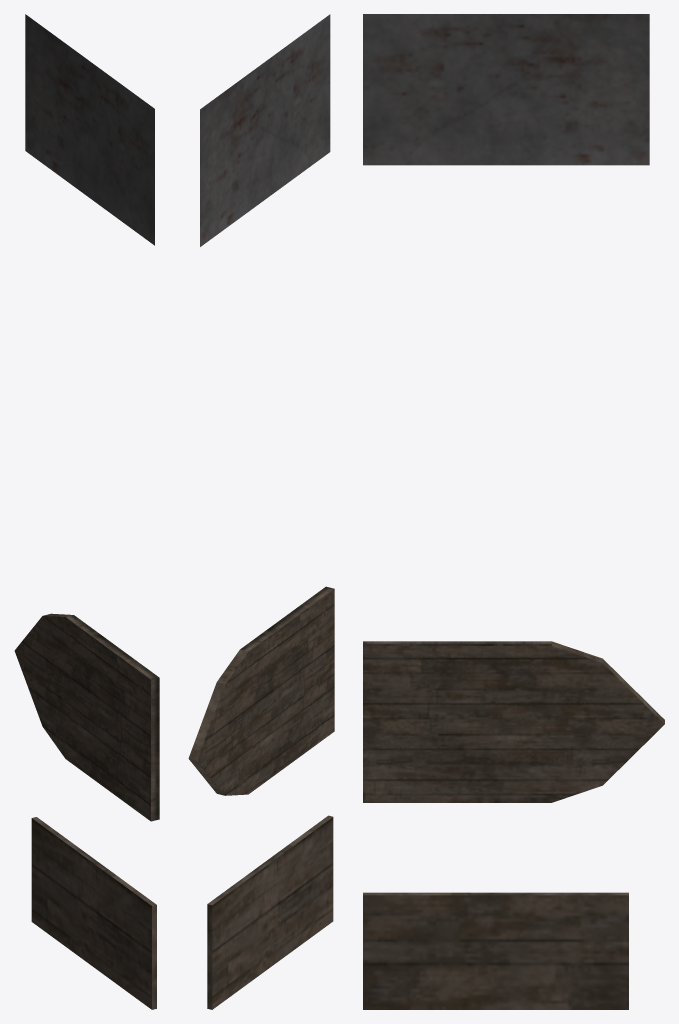
Rendered from Doors.fbx.
3 views of the same model, side by side, from view 1: azimuth 30°, elevation 25°; view 2: azimuth 150°, elevation 25°; view 3: azimuth 270°, elevation 25° (orthographic). The views are drawn at different scales.
Parts seen in each view (by area): view 1: NobleDoor, Gate_Door, Door; view 2: NobleDoor, Gate_Door, Door; view 3: Gate_Door, NobleDoor, Door.
Boxes of the visible parts, <box> form: NobleDoor: <box>14,613,159,821</box>; Gate_Door: <box>25,14,154,245</box>; Door: <box>31,817,156,1009</box>; NobleDoor: <box>188,586,334,795</box>; Gate_Door: <box>200,14,330,246</box>; Door: <box>207,815,333,1009</box>; Gate_Door: <box>363,14,649,165</box>; NobleDoor: <box>363,641,664,802</box>; Door: <box>363,892,628,1009</box>.
Size of the model in its own units: 8.58 by 867 by 238.
